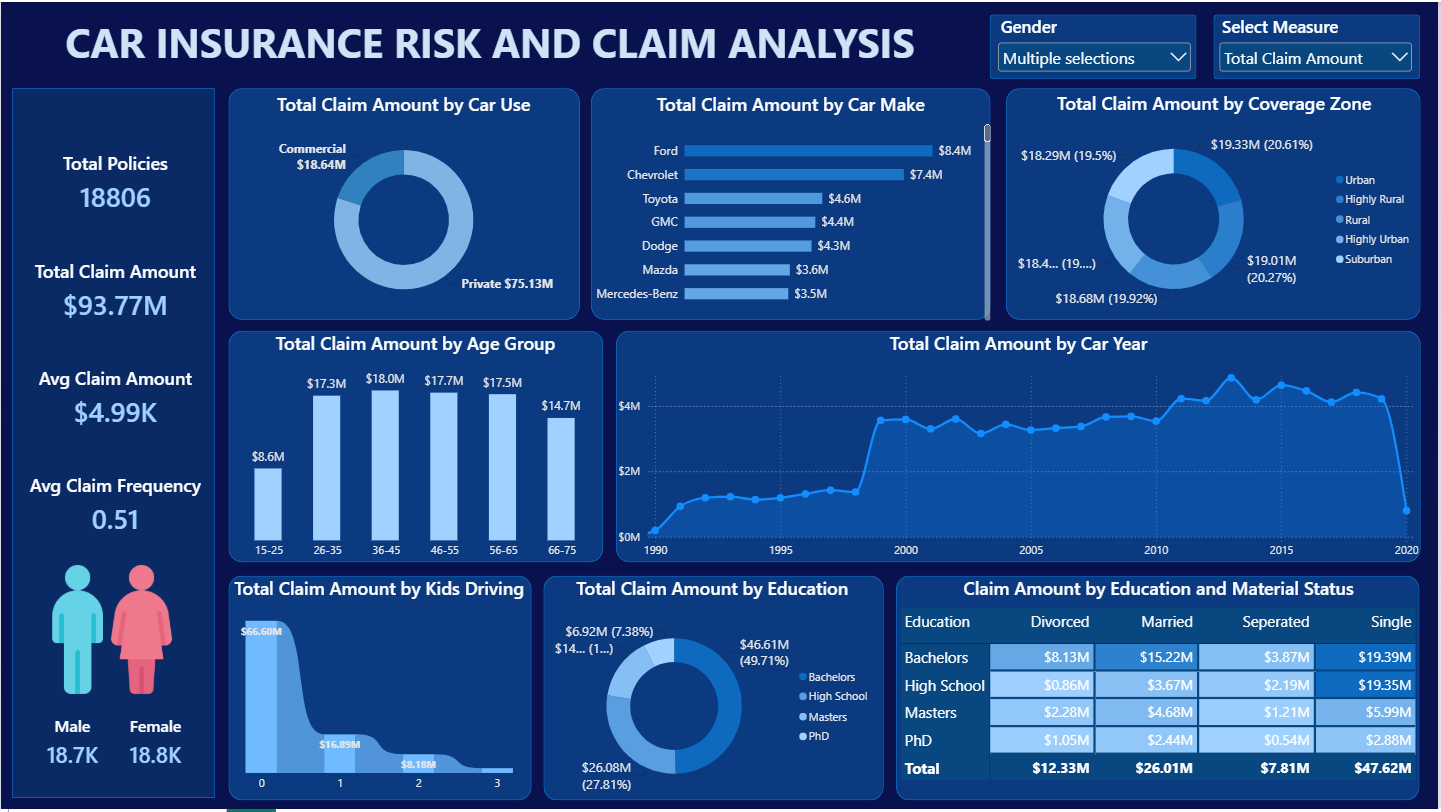

The dashboard page shown, as its layout file describes it:
{"tool":"powerbi","page":{"name":"Policies & Claim Analysis","canvas":[1920,1080],"ordinal":0},"visuals":[{"type":"shape","box":[14.7,116,270.6,947.9],"z":0},{"type":"shape","box":[303.7,116,469.3,309.2],"z":1000},{"type":"shape","box":[787.7,116,533.7,309.2],"z":2000},{"type":"shape","box":[1341.7,116,554,309.2],"z":3000},{"type":"shape","box":[303.7,439.9,500.6,309.2],"z":4000},{"type":"shape","box":[820.9,439.9,1074.9,309.2],"z":5000},{"type":"shape","box":[303.7,765.7,404.9,299.9],"z":6000},{"type":"shape","box":[725.2,765.6,454.6,300],"z":7000},{"type":"shape","box":[1196.3,765.6,699.4,300],"z":8000},{"type":"shape","box":[1321.5,16.6,276.1,86.5],"z":9000},{"type":"shape","box":[1619.6,16.6,276.1,86.5],"z":10000},{"type":"cardVisual","fields":{"Data":["KPI's.Total Policies","KPI's.Total Claim Amount","KPI's.Avg Claim Amount","KPI's.Avg Claim Frequency"]},"box":[16.6,173,272.1,566.9],"z":11000},{"type":"image","box":[11,739.9,274.2,196.9],"z":12000},{"type":"cardVisual","fields":{"Data":["KPI's.Male Count","KPI's.Female Count"]},"box":[44.2,936.8,215.3,103.1],"z":13000},{"type":"slicer","fields":{"Values":["Select Measure.Select Measure"]},"box":[1623.3,16.6,266.9,86.5],"z":14000},{"type":"slicer","fields":{"Values":["Insurance_dataset.Gender"]},"box":[1327,16.6,266.9,86.5],"z":14001},{"type":"textbox","box":[0,16.6,1306.8,103.1],"z":14002},{"type":"donutChart","fields":{"Category":["Insurance_dataset.Car Use"],"Y":["KPI's.Total Claim Amount"]},"box":[311,108.6,454.6,316.6],"z":14003},{"type":"barChart","fields":{"Category":["Insurance_dataset.Car Make"],"Y":["KPI's.Total Claim Amount"]},"box":[787.7,119.6,533.7,305.5],"z":14004},{"type":"donutChart","fields":{"Category":["Insurance_dataset.Coverage Zone"],"Y":["KPI's.Total Claim Amount"]},"box":[1350.9,117.8,539.3,294.5],"z":14005},{"type":"columnChart","fields":{"Category":["Insurance_dataset.Age Group"],"Y":["KPI's.Total Claim Amount"]},"box":[307.4,439.9,493.3,309.2],"z":14006},{"type":"areaChart","fields":{"Category":["Insurance_dataset.Car Year"],"Y":["KPI's.Total Claim Amount"]},"box":[824.9,439.1,1068.7,308.9],"z":14007},{"type":"ribbonChart","fields":{"Category":["Insurance_dataset.Kids Driving"],"Y":["KPI's.Total Claim Amount"]},"box":[305.5,765.6,401.2,292.6],"z":14008},{"type":"pieChart","fields":{"Category":["Insurance_dataset.Education"],"Y":["KPI's.Total Claim Amount"]},"box":[732.5,765.6,434.4,300],"z":14009},{"type":"pivotTable","title":"Claim Amount by Education and Material Status","fields":{"Columns":["Insurance_dataset.Marital Status"],"Rows":["Insurance_dataset.Education"],"Values":["KPI's.Total Claim Amount"]},"box":[1201.8,765.6,688.3,292.6],"z":14010}]}

Visuals, with their boxes in screenshot pixels (x1, y1, x2, y2), scaled from the page's 1920x1080 canvas onto the 1441x812 screenshot:
shape: x1=11 y1=87 x2=214 y2=800
shape: x1=228 y1=87 x2=580 y2=320
shape: x1=591 y1=87 x2=992 y2=320
shape: x1=1007 y1=87 x2=1423 y2=320
shape: x1=228 y1=331 x2=604 y2=563
shape: x1=616 y1=331 x2=1423 y2=563
shape: x1=228 y1=576 x2=532 y2=801
shape: x1=544 y1=576 x2=885 y2=801
shape: x1=898 y1=576 x2=1423 y2=801
shape: x1=992 y1=12 x2=1199 y2=78
shape: x1=1216 y1=12 x2=1423 y2=78
cardVisual - KPI's.Total Policies x KPI's.Total Claim Amount: x1=12 y1=130 x2=217 y2=556
image: x1=8 y1=556 x2=214 y2=704
cardVisual - KPI's.Male Count x KPI's.Female Count: x1=33 y1=704 x2=195 y2=782
slicer - Select Measure.Select Measure: x1=1218 y1=12 x2=1419 y2=78
slicer - Insurance_dataset.Gender: x1=996 y1=12 x2=1196 y2=78
textbox: x1=0 y1=12 x2=981 y2=90
donutChart - Insurance_dataset.Car Use x KPI's.Total Claim Amount: x1=233 y1=82 x2=575 y2=320
barChart - Insurance_dataset.Car Make x KPI's.Total Claim Amount: x1=591 y1=90 x2=992 y2=320
donutChart - Insurance_dataset.Coverage Zone x KPI's.Total Claim Amount: x1=1014 y1=89 x2=1419 y2=310
columnChart - Insurance_dataset.Age Group x KPI's.Total Claim Amount: x1=231 y1=331 x2=601 y2=563
areaChart - Insurance_dataset.Car Year x KPI's.Total Claim Amount: x1=619 y1=330 x2=1421 y2=562
ribbonChart - Insurance_dataset.Kids Driving x KPI's.Total Claim Amount: x1=229 y1=576 x2=530 y2=796
pieChart - Insurance_dataset.Education x KPI's.Total Claim Amount: x1=550 y1=576 x2=876 y2=801
"Claim Amount by Education and Material Status" pivotTable: x1=902 y1=576 x2=1419 y2=796
